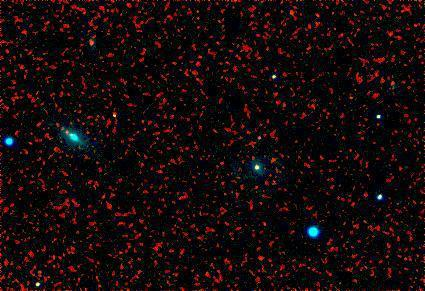star: (248, 125, 278, 155)
